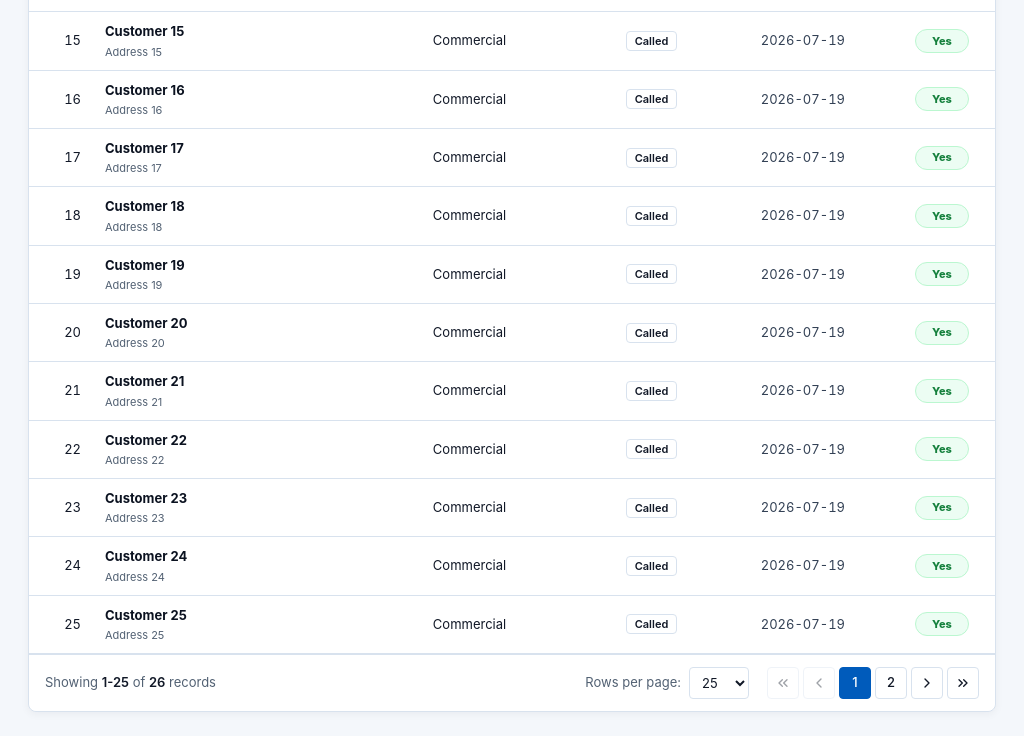
Test case: ReportsView › paginates operation records without requesting assignment users
(page scrolled)
Expected: the text "Customer 26" is not shown
Expected: the text "Showing 1-25 of 26 records" is shown, [45,673,216,693]
Click the button named "Page 2".
click(891, 683)  # box [875,667,907,699]
(page scrolled)
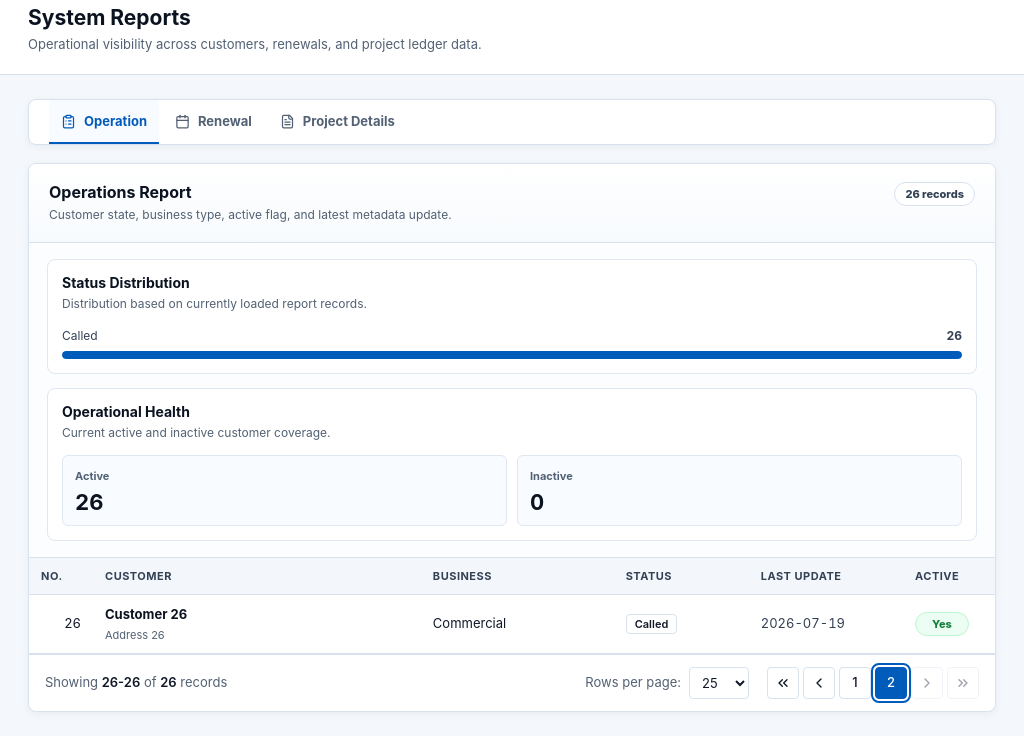
Result: the text "Customer 26" is shown at [105,606,187,622]
Result: the text "Showing 26-26 of 26 records" is shown at [45,673,227,692]
